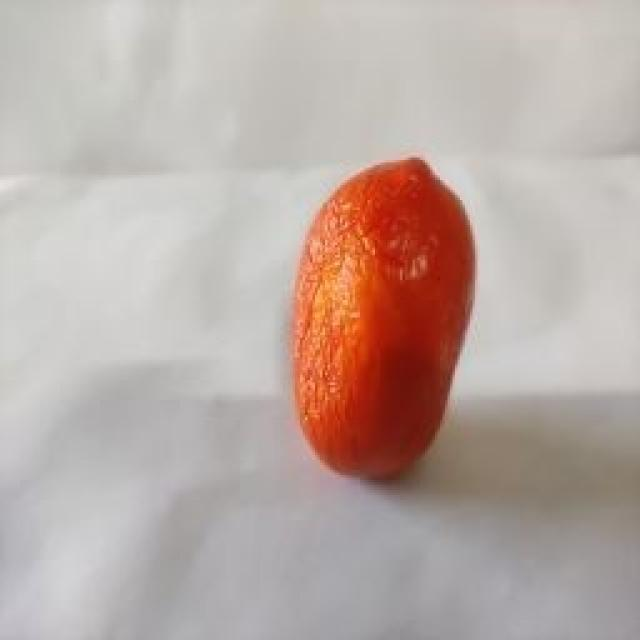overripe: (287, 157, 484, 482)
